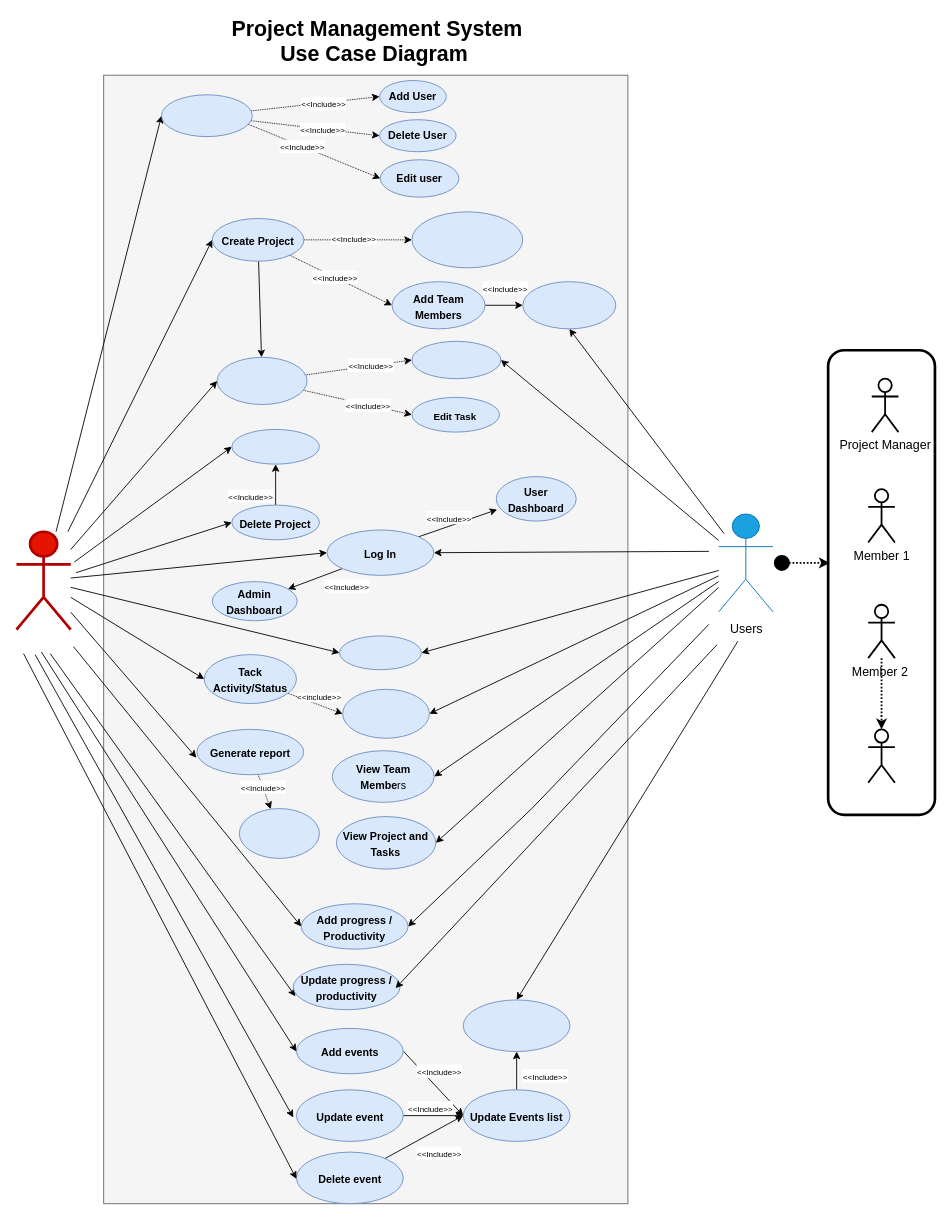
The diagram is 951 pixels wide and 1219 high, and some of its shapes have lost their labels. The centre of each missing label's shape, as x and y in pixels:
Add New Task: point 261,380
Add project Details and Descriptions: point 467,239
Admin: point 43,580
Delete Task: point 275,446
Log Out: point 380,652
Manage Users: point 206,115
Member n: point 881,755
View Event: point 516,1025
View Project: point 569,305
View Task: point 456,359
View Task Status: point 385,713
Working Duration: point 278,833
